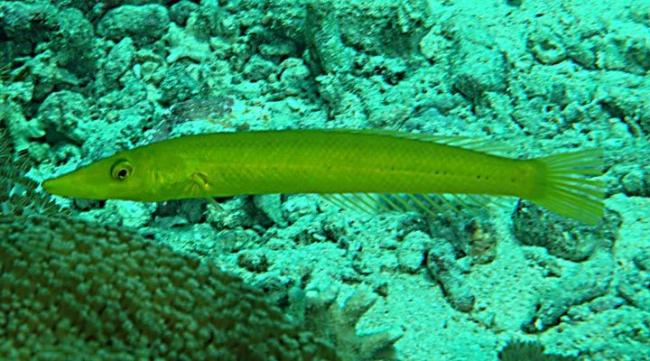fish: (43, 129, 607, 224)
